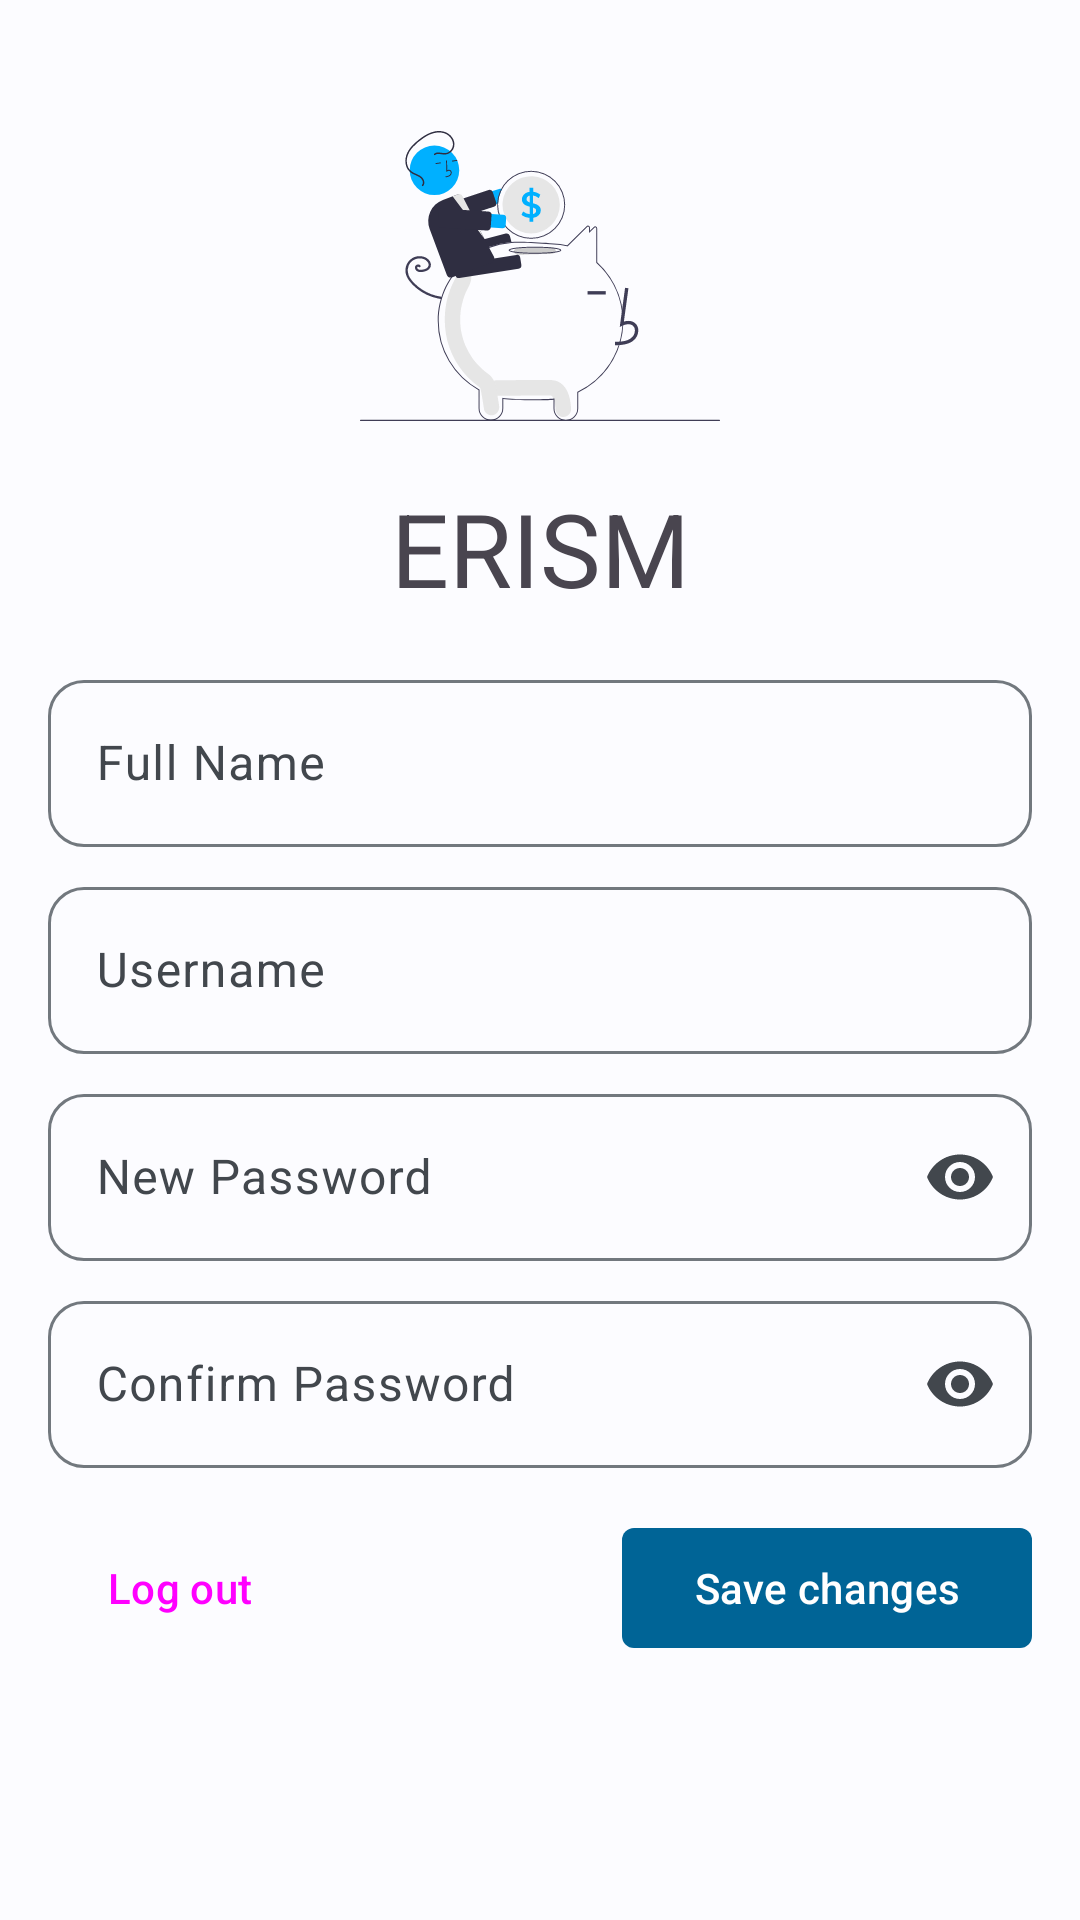

Named icons in this screenshot (1080px×1920px) and their centers, [x,y]:
saving: [540,276]
